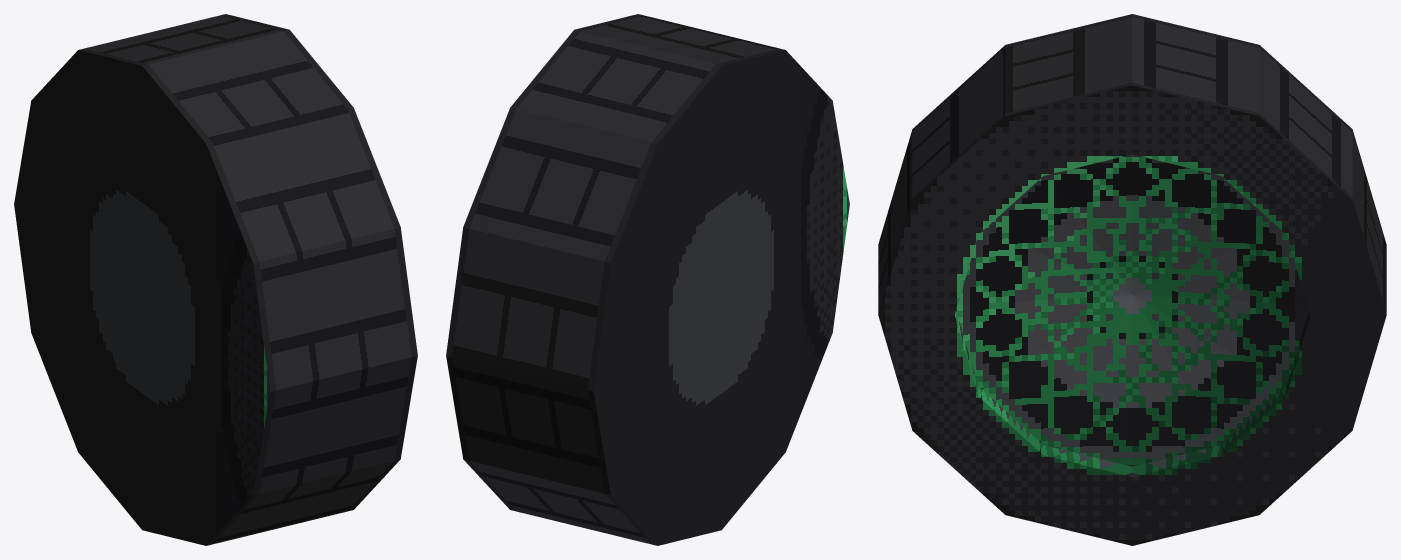
Rendered from wheel_mesh.glb.
3 renders of one model, left to right at view 1: azimuth 30°, elevation 25°; view 2: azimuth 150°, elevation 25°; view 3: azimuth 270°, elevation 25°, orthographic.
Visible parts, largest first — view 1: wheel_mesh; view 2: wheel_mesh; view 3: wheel_mesh.
Boxes of the visible parts, left/top/right/bottom form: wheel_mesh: left=14, top=14, right=417, bottom=545; wheel_mesh: left=446, top=14, right=849, bottom=545; wheel_mesh: left=878, top=14, right=1386, bottom=545.
Bounding box in the file's own units: 0.205 × 0.6163 × 0.6163.
1 material, 1 textured.
